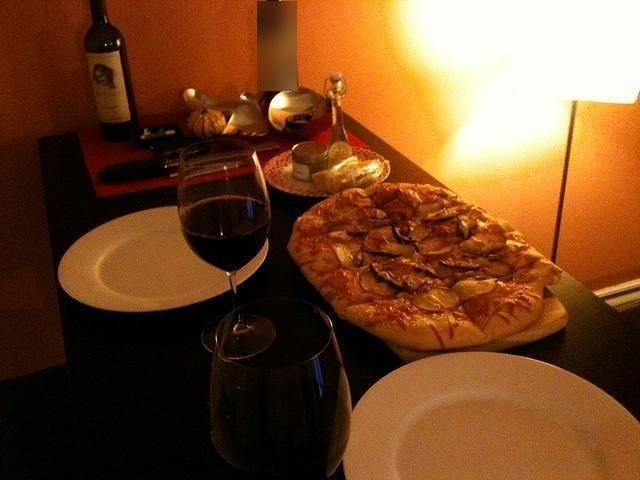bottle-glass: (82, 1, 138, 141)
glass-wine: (206, 298, 356, 479), (177, 142, 277, 357)
